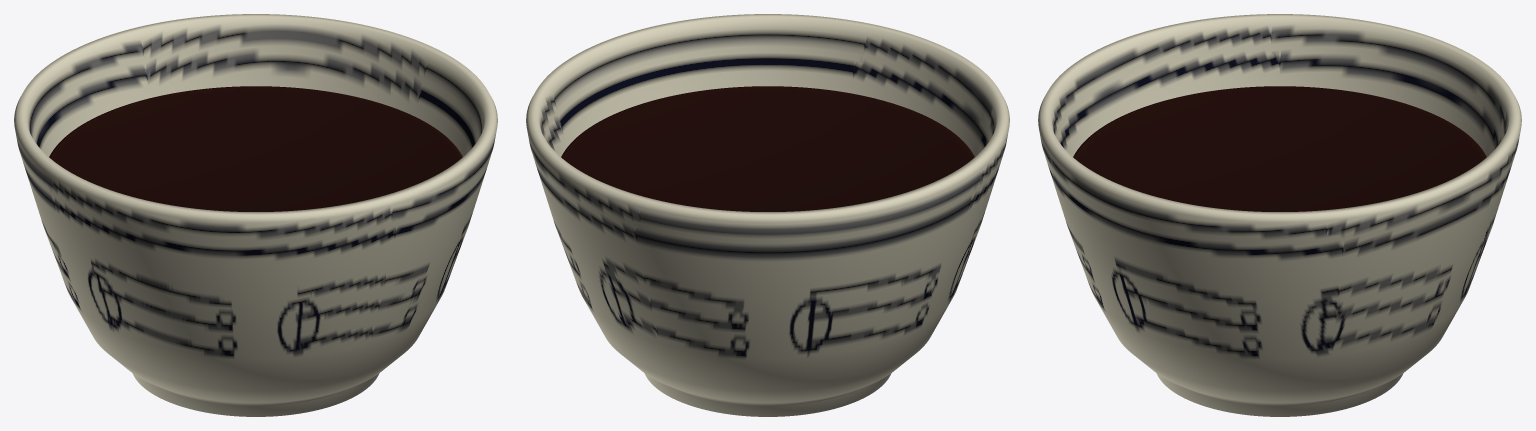
The model's file is puer-tea.glb.
3 views of the same model, side by side, from view 1: azimuth 30°, elevation 25°; view 2: azimuth 150°, elevation 25°; view 3: azimuth 270°, elevation 25° (orthographic).
Parts seen in each view (by area): view 1: puer-tea; view 2: puer-tea; view 3: puer-tea.
Part boxes in pixels (x1=…): puer-tea: x1=14, y1=14, x2=497, y2=416; puer-tea: x1=526, y1=14, x2=1009, y2=416; puer-tea: x1=1038, y1=14, x2=1521, y2=416.
Size of the model in its own units: 0.081 by 0.047 by 0.081.
2 materials, 2 textured.
